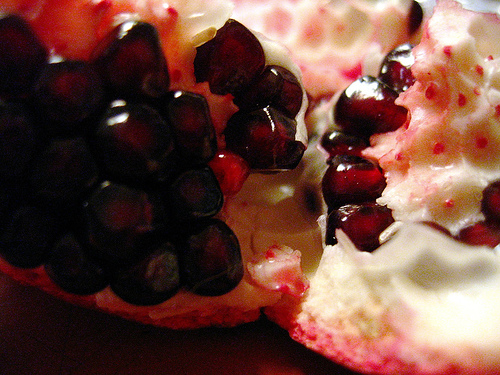pomogranate: (1, 2, 499, 374)
